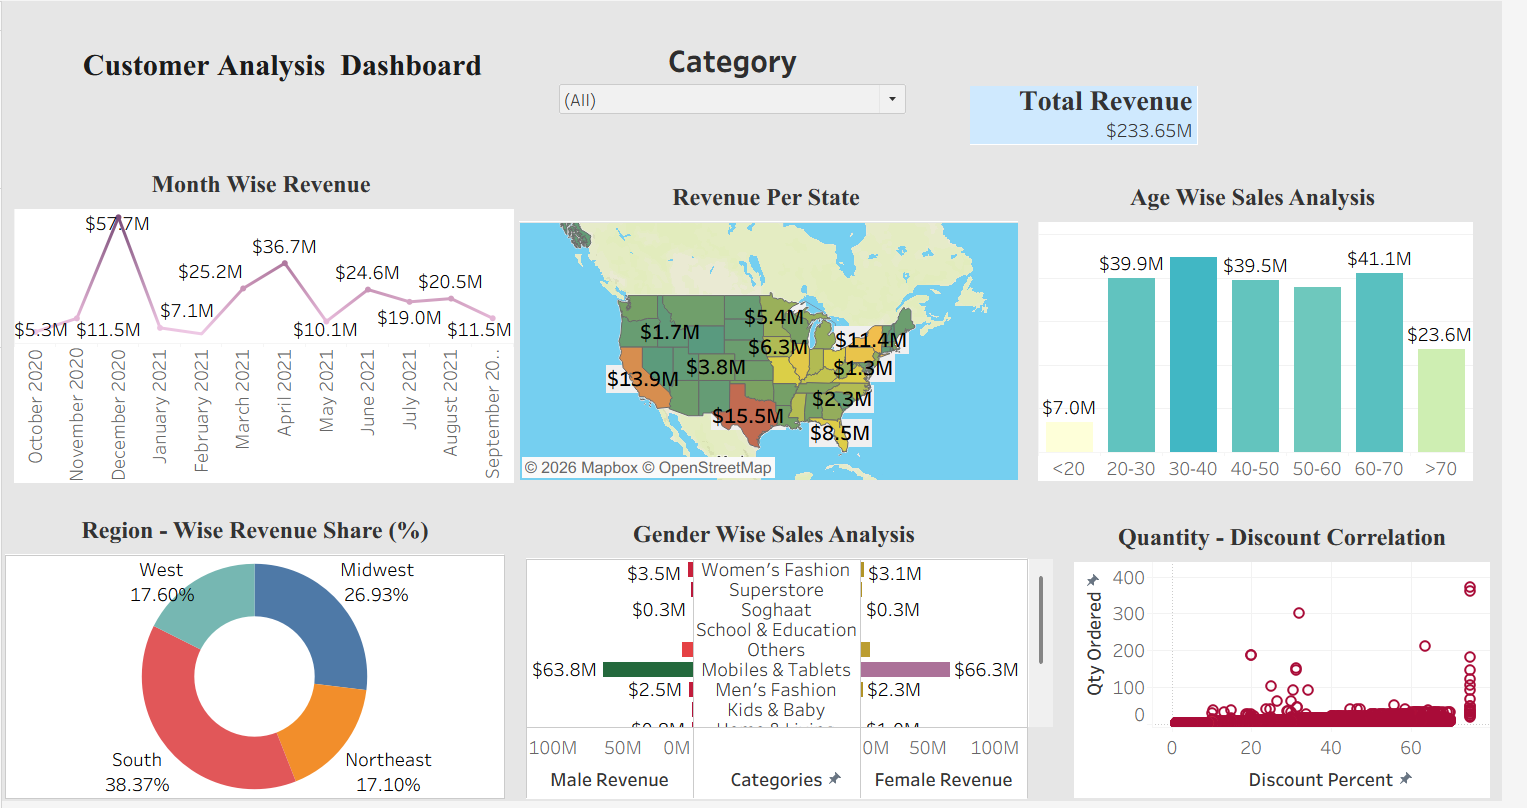

Layout of this report page (visuals, bound fields, positions):
{"tool":"tableau","page":{"name":"Sales Analysis Dashboard","canvas":[1500,800],"ordinal":0},"visuals":[{"type":"text","box":[34,32,489,65]},{"type":"filter","title":"Revenue Per Category","param":"[federated.0xdhfeb0hz1zb01db8ae70kb0ehf].[none:category:nk]","box":[554,38,353,111]},{"type":"worksheet","title":"Total Revenue ","mark":"Automatic","box":[968,43,256,133]},{"type":"worksheet","title":"Revenue Per Month ","mark":"Automatic","rows":["total"],"cols":["month"],"box":[12,166,500,316]},{"type":"worksheet","title":"Revenue Per State ","mark":"Automatic","box":[517,179,500,301]},{"type":"worksheet","title":"Revenue Per Age ","mark":"Automatic","rows":["total"],"cols":["Age (bin)"],"box":[1036,179,435,301]},{"type":"worksheet","title":"Revenue - Percentage Per Region","mark":"Pie","rows":["Calculation_1353502806446082","Calculation_1353502806446082"],"box":[3,512,500,286]},{"type":"worksheet","title":"Revenue Per Category","mark":"Automatic","rows":["category"],"cols":["Calculation_1353502809227267","Calculation_1353502806446082","Calculation_1353502809833476"],"box":[524,516,529,282]},{"type":"worksheet","title":"Quantity - Discount Percentage Correlation","mark":"Automatic","rows":["qty_ordered"],"cols":["Discount_Percent"],"box":[1072,519,416,278]}]}

Visuals, with their boxes in screenshot pixels (x1, y1, x2, y2), scaled from the page's 1500x800 canvas onto the 1527x808 screenshot:
text: {"left": 35, "top": 32, "right": 532, "bottom": 98}
"Revenue Per Category" filter: {"left": 564, "top": 38, "right": 923, "bottom": 150}
"Total Revenue " worksheet: {"left": 985, "top": 43, "right": 1246, "bottom": 178}
"Revenue Per Month " worksheet: {"left": 12, "top": 168, "right": 521, "bottom": 487}
"Revenue Per State " worksheet: {"left": 526, "top": 181, "right": 1035, "bottom": 485}
"Revenue Per Age " worksheet: {"left": 1055, "top": 181, "right": 1497, "bottom": 485}
"Revenue - Percentage Per Region" worksheet (Pie marks): {"left": 3, "top": 517, "right": 512, "bottom": 806}
"Revenue Per Category" worksheet: {"left": 533, "top": 521, "right": 1072, "bottom": 806}
"Quantity - Discount Percentage Correlation" worksheet: {"left": 1091, "top": 524, "right": 1515, "bottom": 805}
